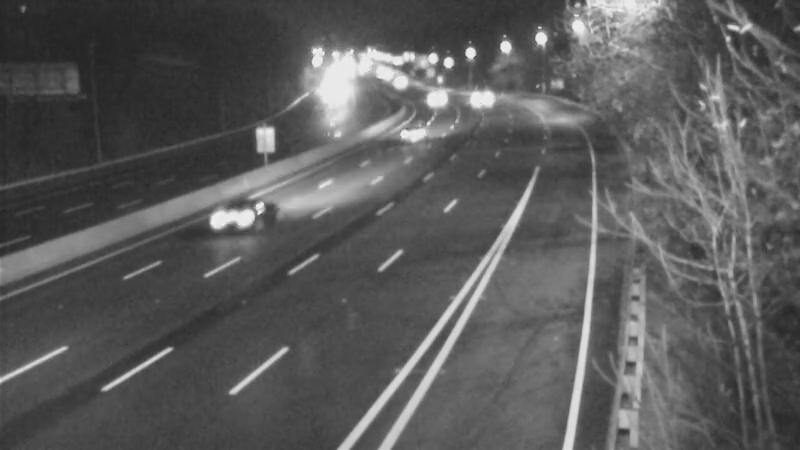vehicle: (187, 175, 267, 255), (368, 57, 418, 107), (405, 70, 455, 120), (455, 73, 505, 123), (390, 110, 440, 160), (310, 68, 360, 118)
